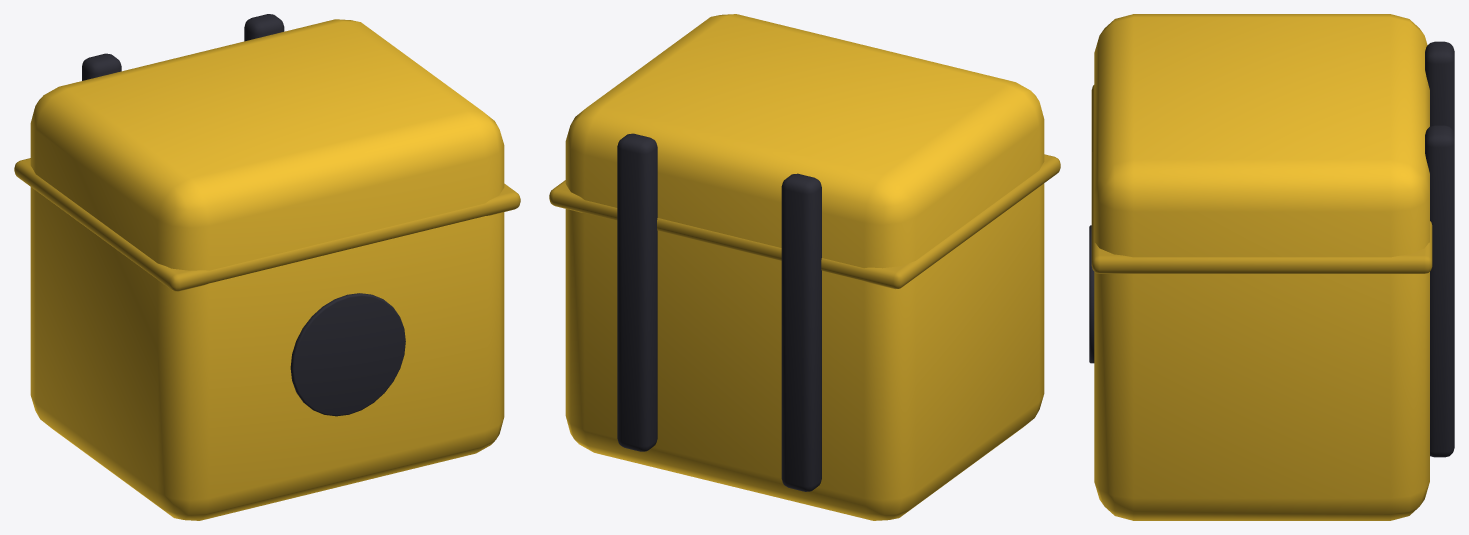
The model's file is prop_delivery_box.fbx.
3 renders of one model, left to right at view 1: azimuth 30°, elevation 25°; view 2: azimuth 150°, elevation 25°; view 3: azimuth 270°, elevation 25°, orthographic. The views are drawn at different scales.
Parts seen in each view (by area): view 1: prop_delivery_box; view 2: prop_delivery_box; view 3: prop_delivery_box.
Boxes of the visible parts, box(x1,y1,x2,y2) form: prop_delivery_box: box(14, 14, 520, 520); prop_delivery_box: box(549, 14, 1060, 520); prop_delivery_box: box(1089, 14, 1454, 520).
Bounding box in the file's own units: 0.43 × 0.4 × 0.37.
